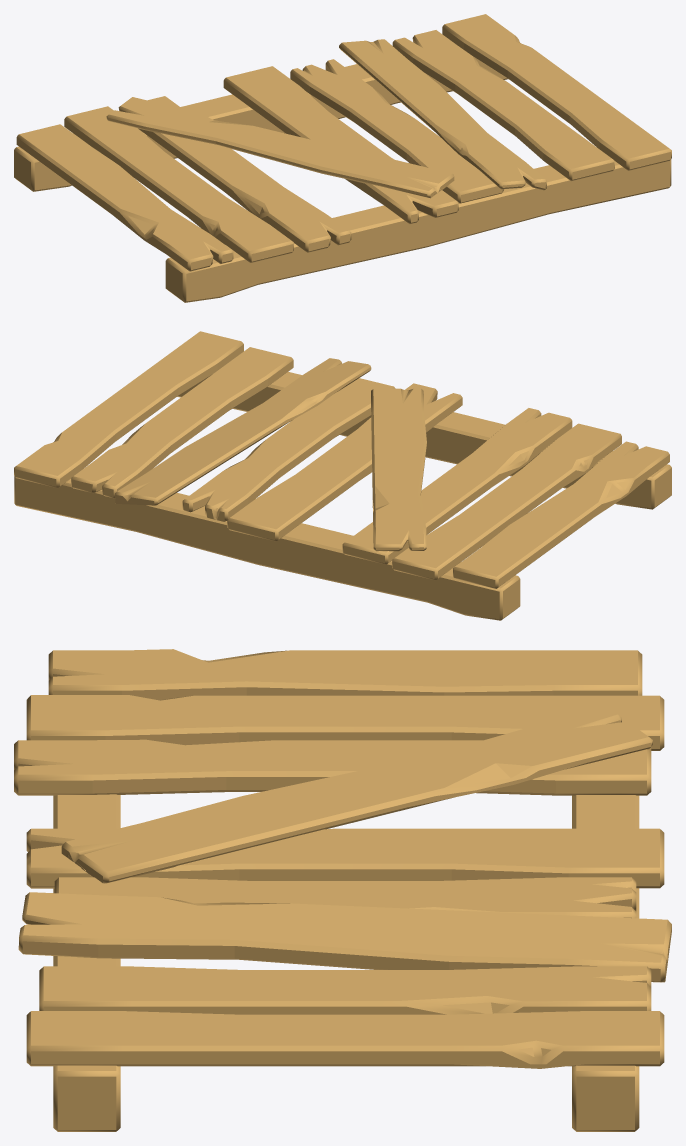
The model's file is bridge2.fbx.
The picture shows the model from 3 angles, top to bottom: view 1: azimuth 30°, elevation 25°; view 2: azimuth 150°, elevation 25°; view 3: azimuth 270°, elevation 25°; orthographic projection. The views are drawn at different scales.
Parts seen in each view (by area): view 1: Cube.171; view 2: Cube.171; view 3: Cube.171.
Boxes of the visible parts, bbox=[...] form: Cube.171: bbox=[14, 14, 671, 302]; Cube.171: bbox=[14, 331, 671, 620]; Cube.171: bbox=[14, 649, 671, 1131].
Bounding box in the file's own units: 94.51 × 10.13 × 64.49.
